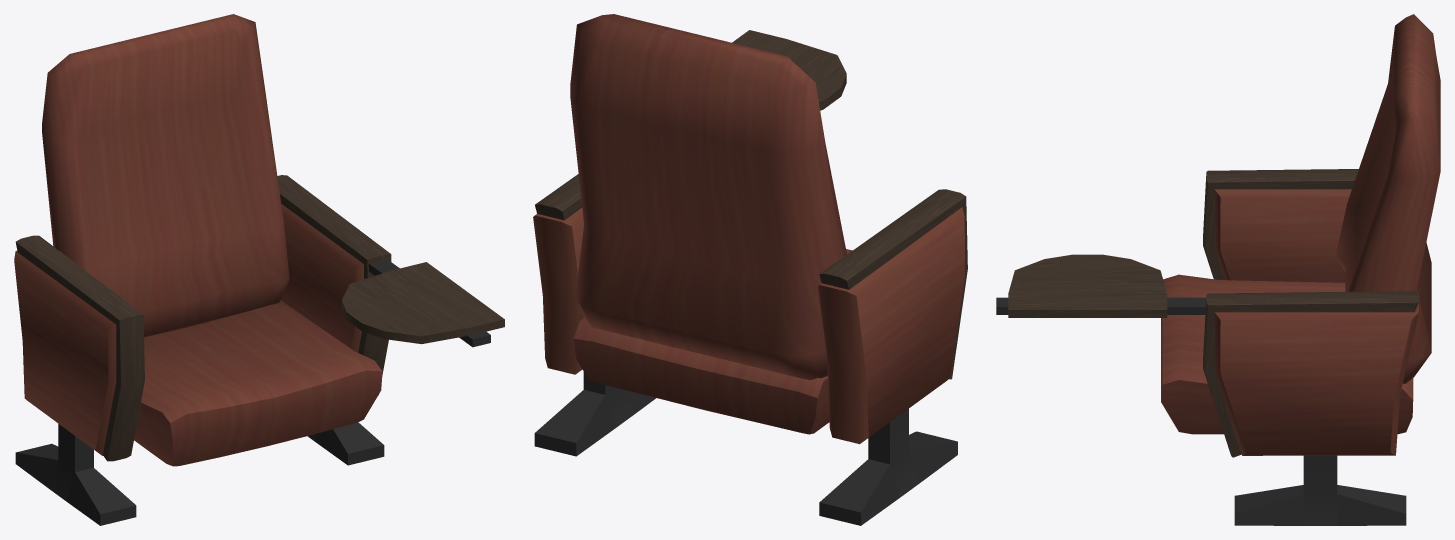
File: audience_chair.FBX
The picture shows the model from 3 angles, left to right: view 1: azimuth 30°, elevation 25°; view 2: azimuth 150°, elevation 25°; view 3: azimuth 270°, elevation 25°; orthographic projection. The views are drawn at different scales.
Parts seen in each view (by area): view 1: _chair; view 2: _chair; view 3: _chair.
Part boxes in pixels (box(x1,y1,x2,y2)): _chair: box(14, 14, 504, 525); _chair: box(533, 14, 967, 525); _chair: box(996, 14, 1440, 525).
Bounding box in the file's own units: 1.75 × 2.24 × 2.26.
